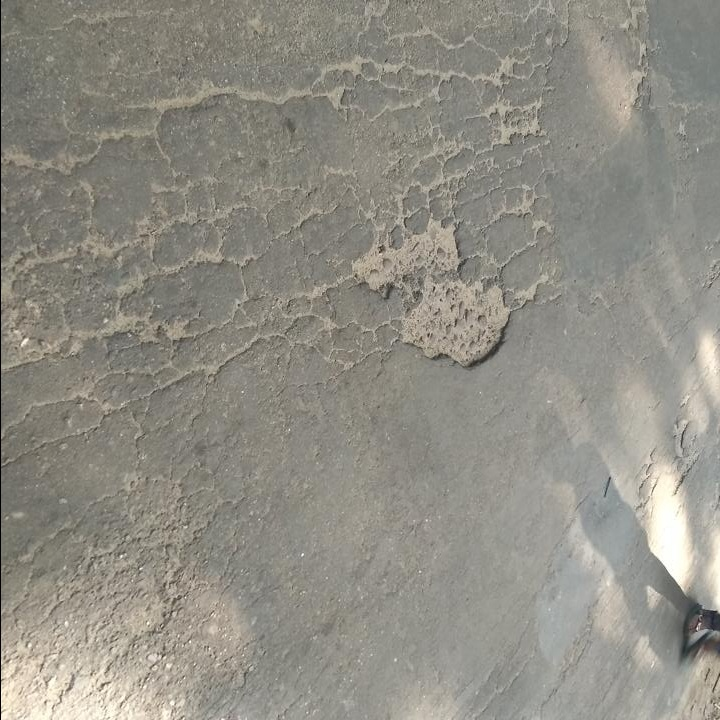pothole: (348, 211, 520, 370)
